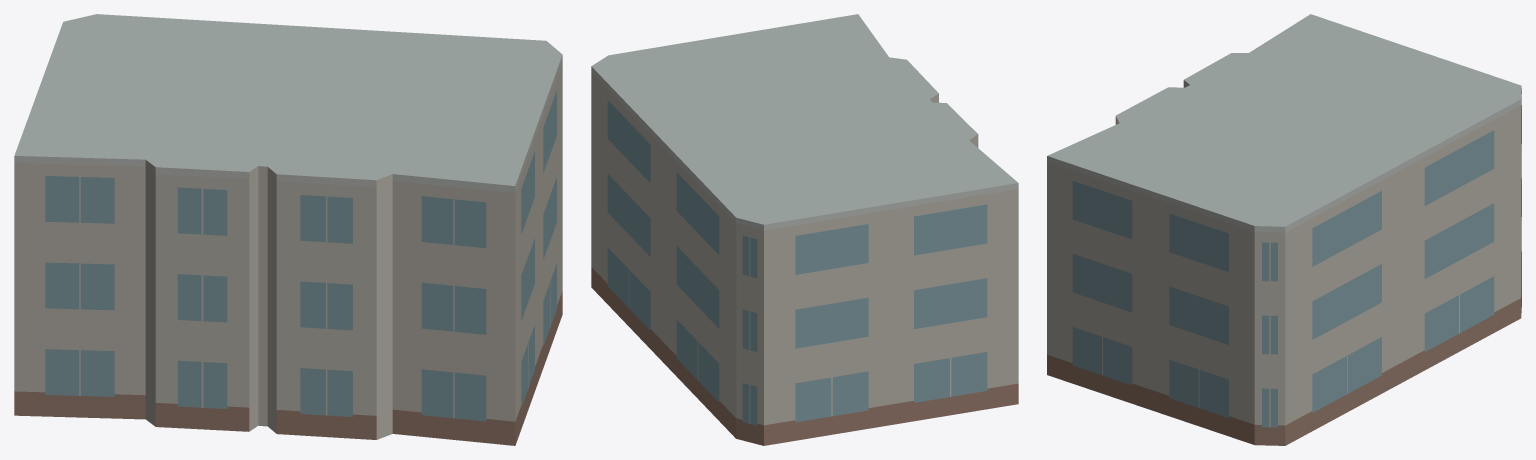
File: survey-upis-32720277.glb
The picture shows the model from 3 angles, left to right: view 1: azimuth 30°, elevation 25°; view 2: azimuth 150°, elevation 25°; view 3: azimuth 270°, elevation 25°; orthographic projection. The views are drawn at different scales.
Visible parts, largest first — view 1: survey-upis-32720277.tmp; view 2: survey-upis-32720277.tmp; view 3: survey-upis-32720277.tmp.
Part boxes in pixels (left/top/right/bottom): survey-upis-32720277.tmp: left=14, top=14, right=562, bottom=445; survey-upis-32720277.tmp: left=591, top=14, right=1018, bottom=445; survey-upis-32720277.tmp: left=1047, top=14, right=1521, bottom=445.
Bounding box in the file's own units: 19.07 × 9.15 × 17.98.
